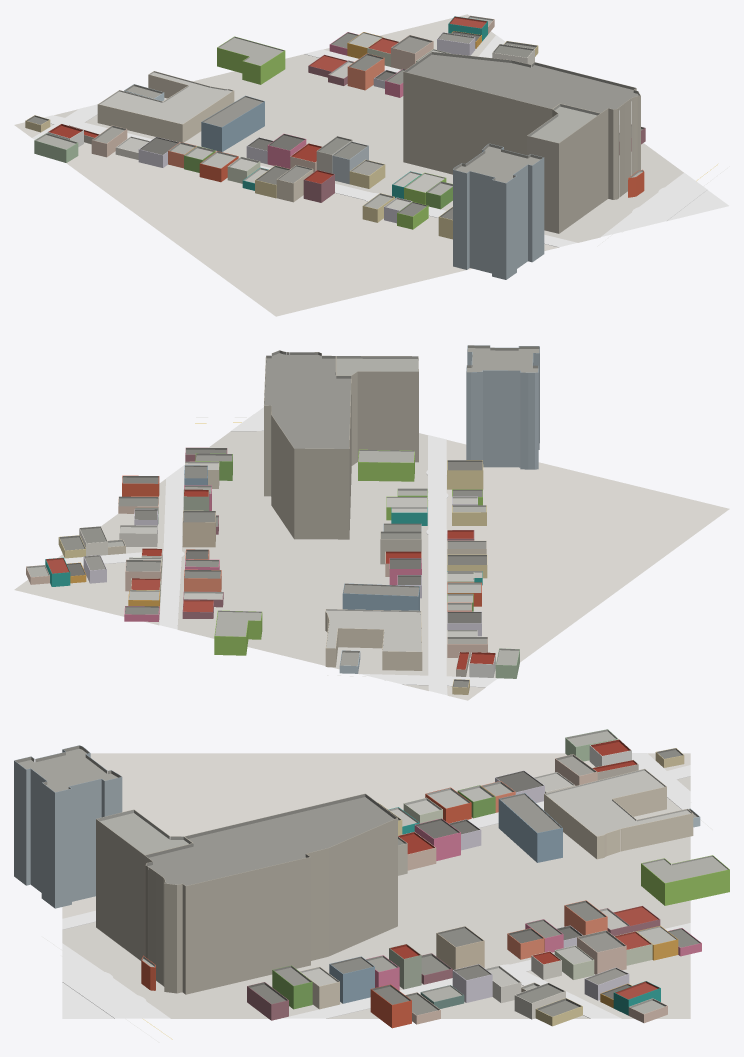
3 views of the same model, one above another, from view 1: azimuth 30°, elevation 25°; view 2: azimuth 150°, elevation 25°; view 3: azimuth 270°, elevation 25° (orthographic). The views are drawn at different scales.
Visible parts, largest first — view 1: walls, ground, roofs, sidewalk, concrete; view 2: ground, walls, roofs, sidewalk; view 3: walls, ground, roofs, sidewalk, concrete.
Boxes of the visible parts, x1,y1,x2,y2 form: walls: [25, 19, 645, 279]; ground: [14, 14, 683, 316]; roofs: [26, 15, 644, 220]; sidewalk: [32, 35, 707, 247]; concrete: [667, 190, 728, 221]; ground: [14, 431, 729, 700]; walls: [26, 347, 539, 694]; roofs: [26, 345, 539, 687]; sidewalk: [64, 414, 497, 695]; walls: [14, 738, 729, 1028]; ground: [62, 753, 690, 1018]; roofs: [14, 729, 729, 1016]; sidewalk: [62, 753, 690, 1018]; concrete: [62, 982, 114, 1018].
Size of what is drawn, in the model's own units: 280 by 50.9 by 285.
